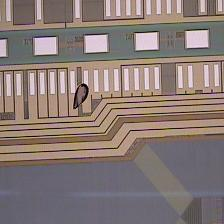COATING BAD: (65, 81, 96, 114)
